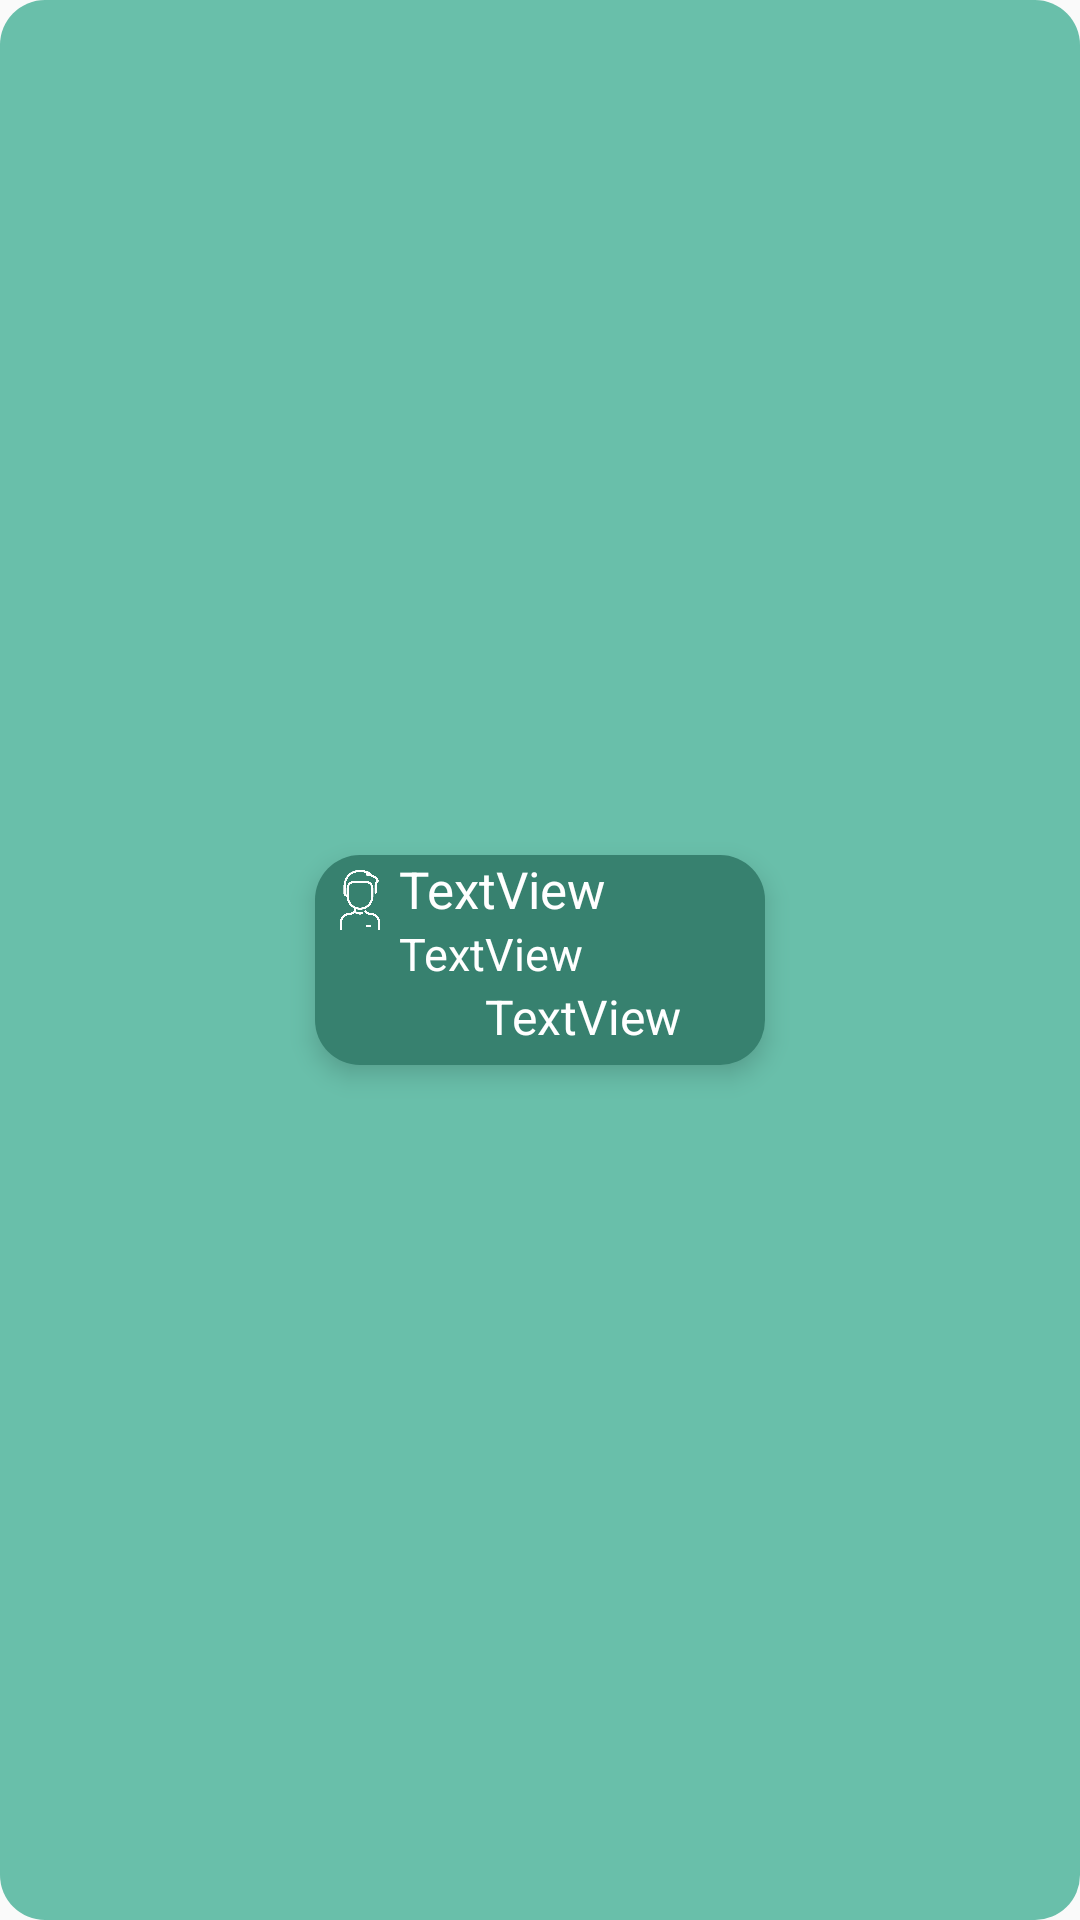

Where icons sit on this 1080×1920 app screen, as bbox(x1, y1, x2, y2):
man: bbox(340, 870, 380, 930)
